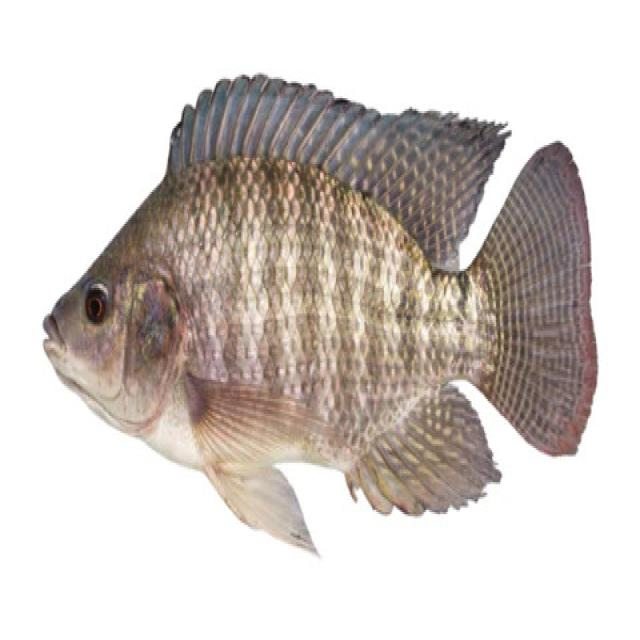ikan: (21, 36, 609, 568)
